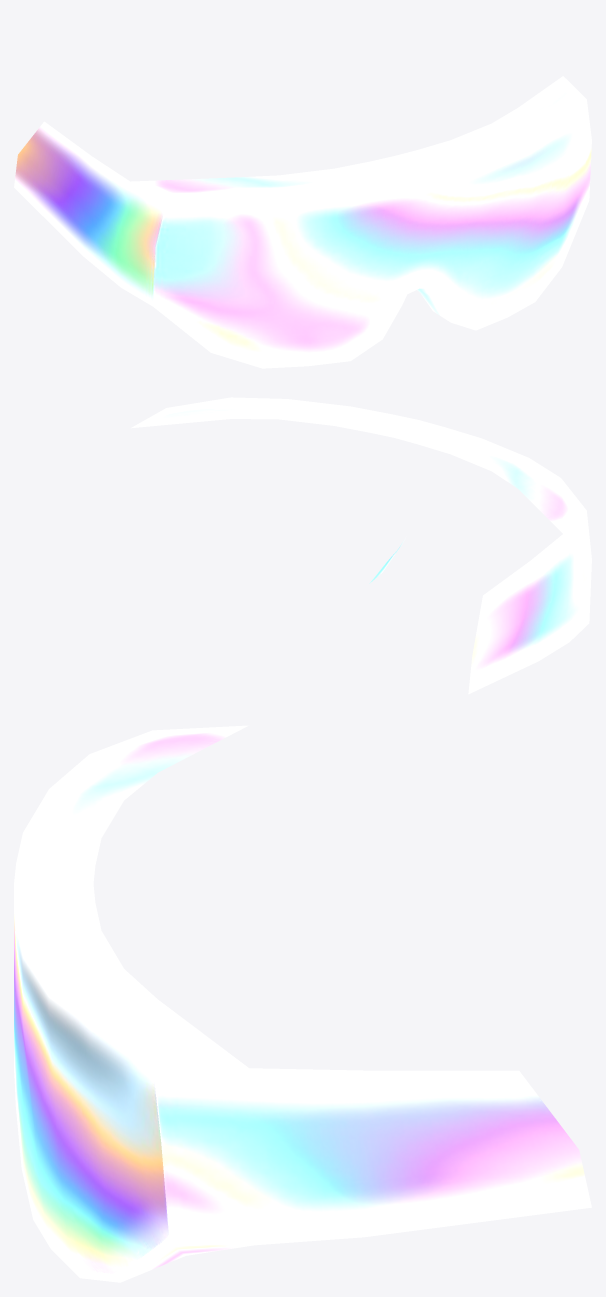
Rendered from Goggle.glb.
3 renders of one model, top to bottom at view 1: azimuth 30°, elevation 25°; view 2: azimuth 150°, elevation 25°; view 3: azimuth 270°, elevation 25°, orthographic. The views are drawn at different scales.
Visible parts, largest first — view 1: Goggle_Lo; view 2: Goggle_Lo; view 3: Goggle_Lo.
Part boxes in pixels (x1,y1,x2,y2): Goggle_Lo: [14, 76, 591, 368]; Goggle_Lo: [131, 397, 591, 694]; Goggle_Lo: [14, 725, 591, 1282].
Bounding box in the file's own units: 0.15 × 0.0557 × 0.1019.
Materials: 1 (1 with a texture image).
